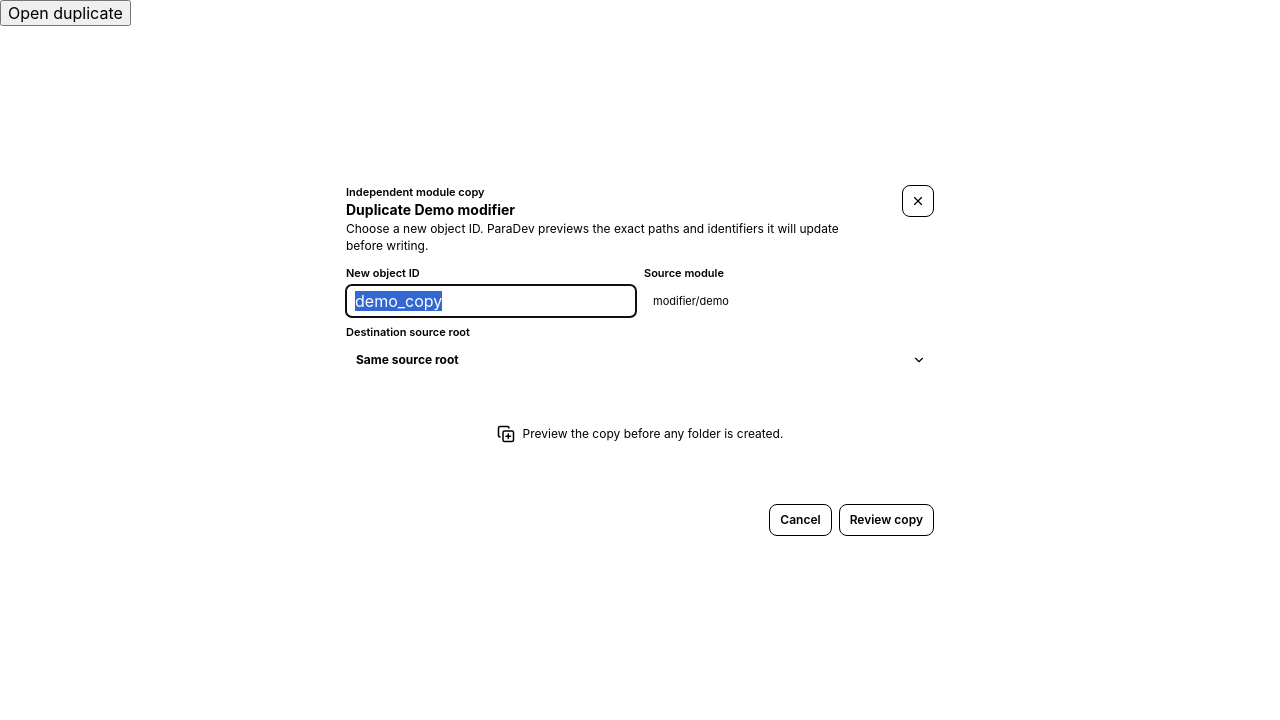
Scenario: ModuleDuplicateDialog › keeps the dialog open and disables apply for a blocked plan
Step 1. Click the button "Review copy" → x=886, y=520, box [839,504,934,536]
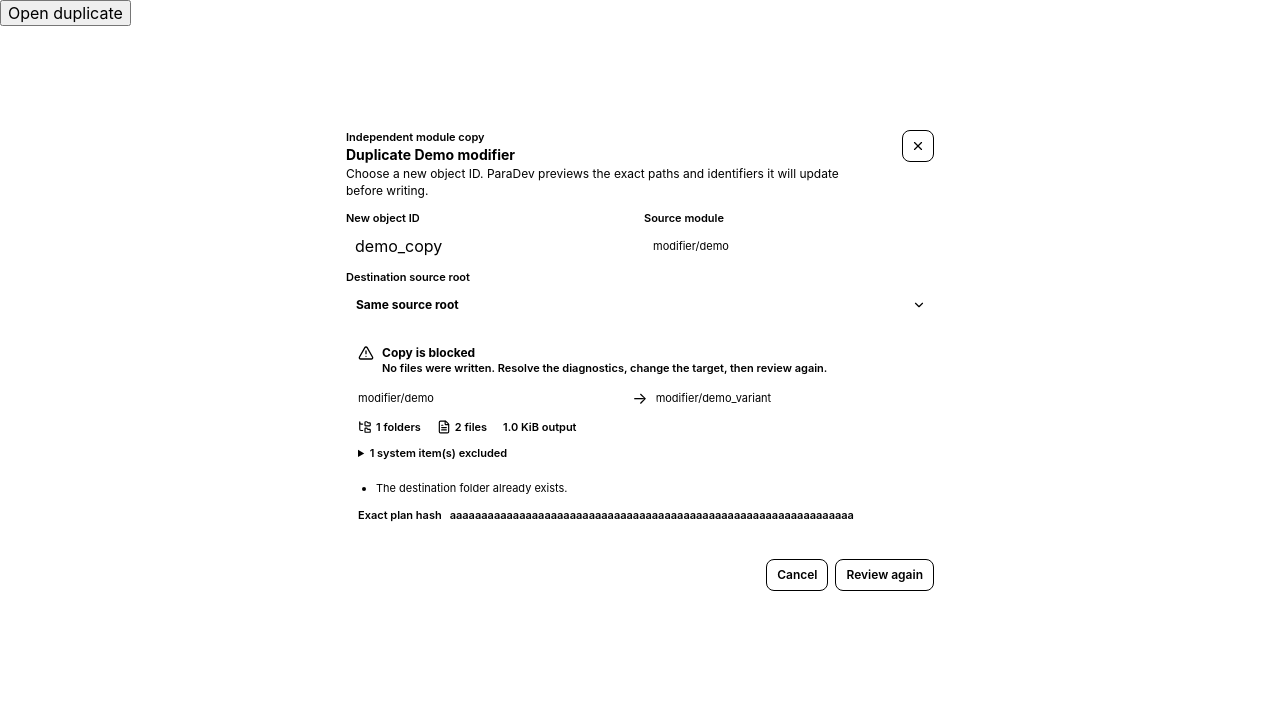
Now the text "Copy is blocked" is shown, box [382,344,475,360]
Now the text "The destination folder already exists." is shown, box [376,480,568,494]
Now the message is shown, box [358,344,854,522]
